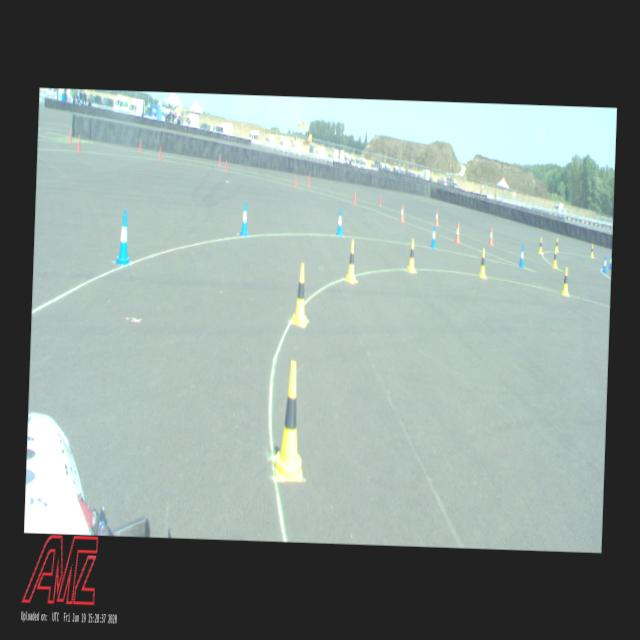blue_cone: (114, 209, 132, 266), (238, 200, 250, 237), (336, 208, 343, 235), (430, 224, 436, 248), (518, 244, 524, 267), (602, 255, 607, 273), (608, 253, 611, 269)
orange_cone: (454, 222, 460, 243), (488, 227, 493, 246), (434, 208, 439, 226), (400, 203, 404, 223)
unknown_cone: (76, 134, 81, 152), (352, 190, 357, 204), (68, 127, 72, 143), (158, 146, 162, 161), (225, 157, 228, 172), (138, 140, 141, 152), (218, 154, 221, 166), (378, 194, 381, 206), (294, 174, 296, 188), (308, 173, 310, 186)
yellow_cone: (272, 359, 308, 482), (291, 262, 310, 328), (344, 238, 358, 284), (407, 238, 416, 272), (560, 266, 570, 296), (478, 246, 487, 278), (552, 248, 558, 268), (538, 236, 543, 253), (554, 236, 559, 252), (590, 243, 594, 258)
